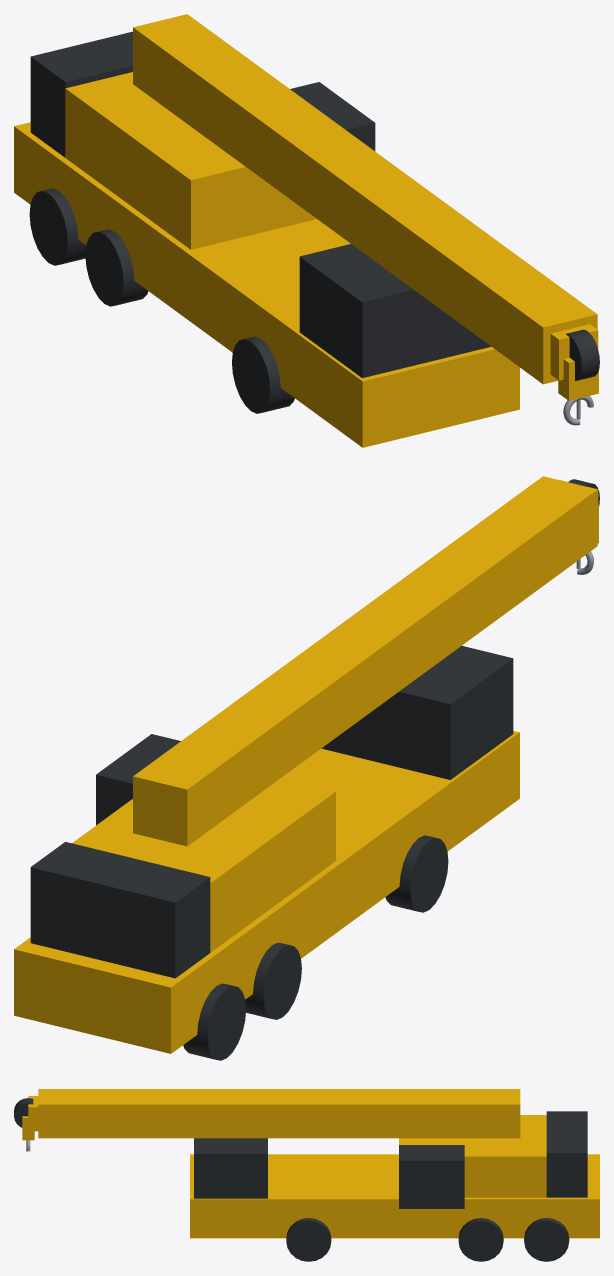
The model's file is guindaste-provisorio.ficticio.glb.
The picture shows the model from 3 angles, top to bottom: view 1: azimuth 30°, elevation 25°; view 2: azimuth 150°, elevation 25°; view 3: azimuth 270°, elevation 25°; orthographic projection. The views are drawn at different scales.
Parts seen in each view (by area): view 1: crane-base, crane-boom, crane-turret, crane-hook, crane-boom-tip, crane-boom-extension; view 2: crane-base, crane-boom, crane-turret; view 3: crane-base, crane-boom, crane-turret, crane-boom-extension, crane-boom-tip, crane-hook.
Boxes of the visible parts, bbox=[...] form: crane-base: bbox=[14, 122, 519, 447]; crane-boom: bbox=[133, 14, 597, 384]; crane-turret: bbox=[30, 31, 375, 249]; crane-hook: bbox=[558, 358, 598, 425]; crane-boom-tip: bbox=[566, 329, 599, 380]; crane-boom-extension: bbox=[550, 324, 598, 380]; crane-base: bbox=[14, 646, 519, 1060]; crane-boom: bbox=[133, 476, 597, 846]; crane-turret: bbox=[30, 734, 335, 978]; crane-base: bbox=[190, 1138, 599, 1261]; crane-boom: bbox=[38, 1089, 520, 1138]; crane-turret: bbox=[399, 1111, 587, 1208]; crane-boom-extension: bbox=[28, 1096, 38, 1131]; crane-boom-tip: bbox=[14, 1098, 33, 1127]; crane-hook: bbox=[22, 1116, 34, 1151].
Bounding box in the file's own units: 3.32 × 3.75 × 14.29.
